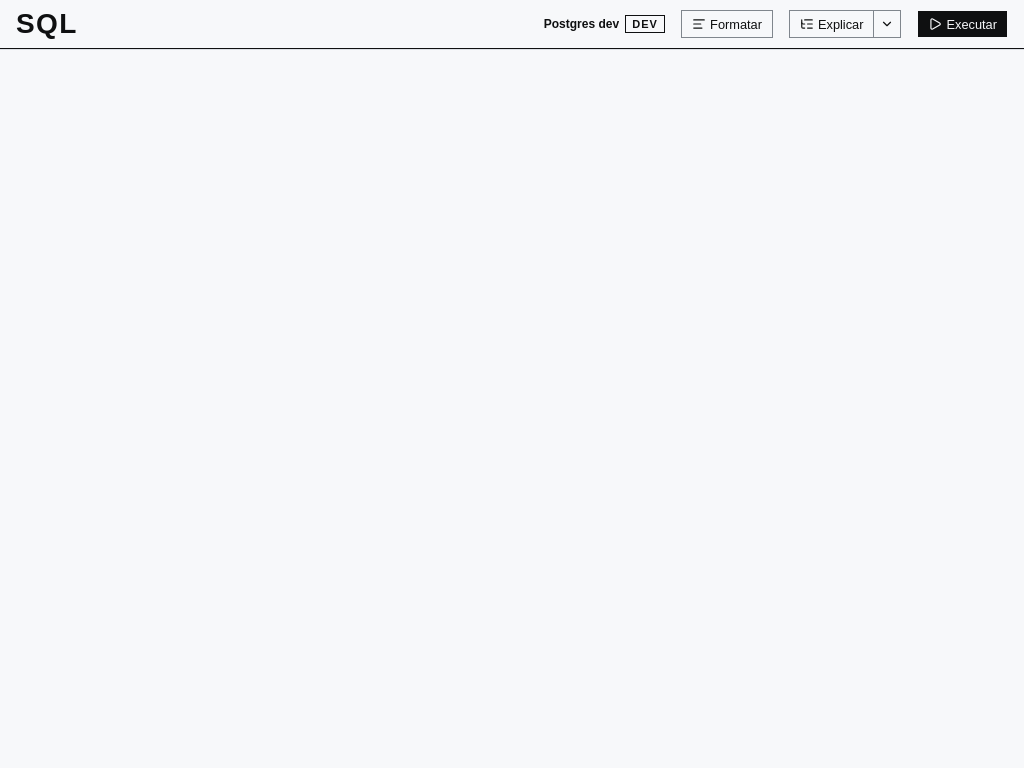
Test: a value the backend refuses stays in the form with the reason
Click the button "Executar": (963, 24) [918,10,1008,38]
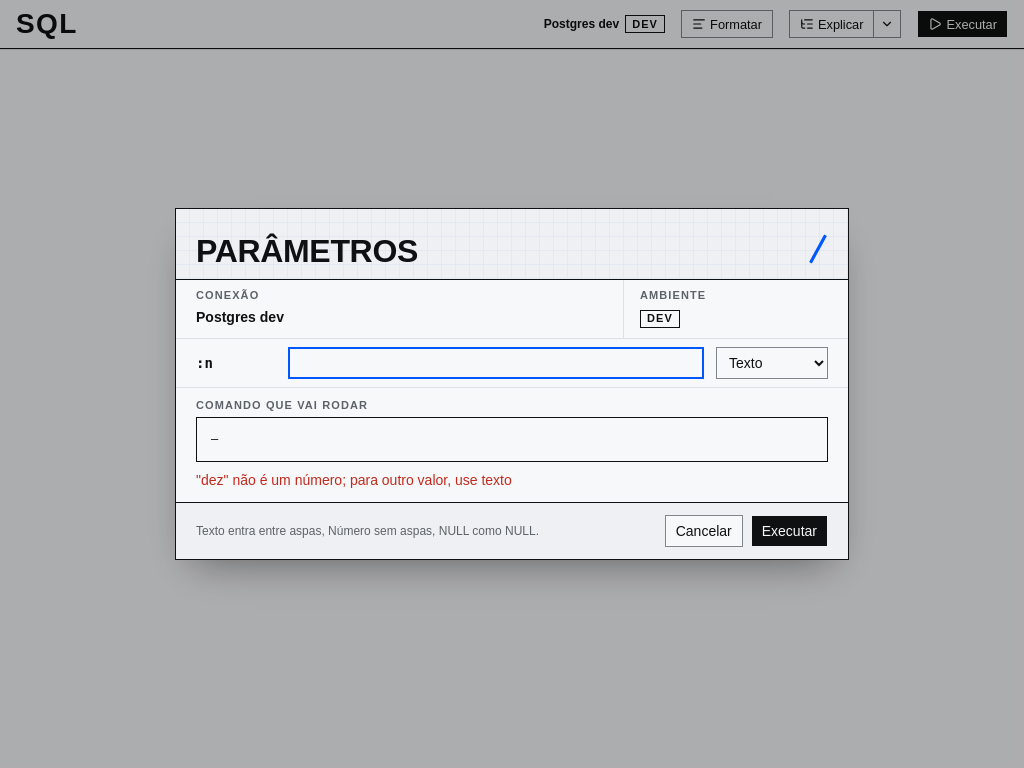
In the field labelled ":n": (496, 362) [288,346,704,378], type "dez"
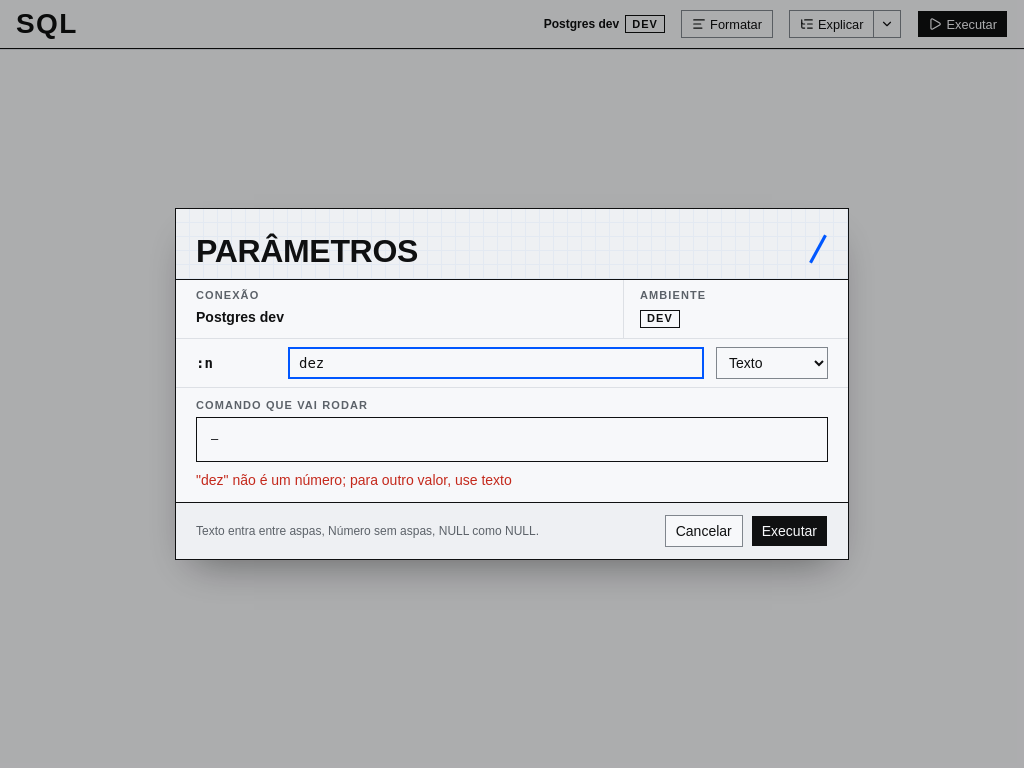
Click the button "Executar": (789, 531) [751,515,828,547]
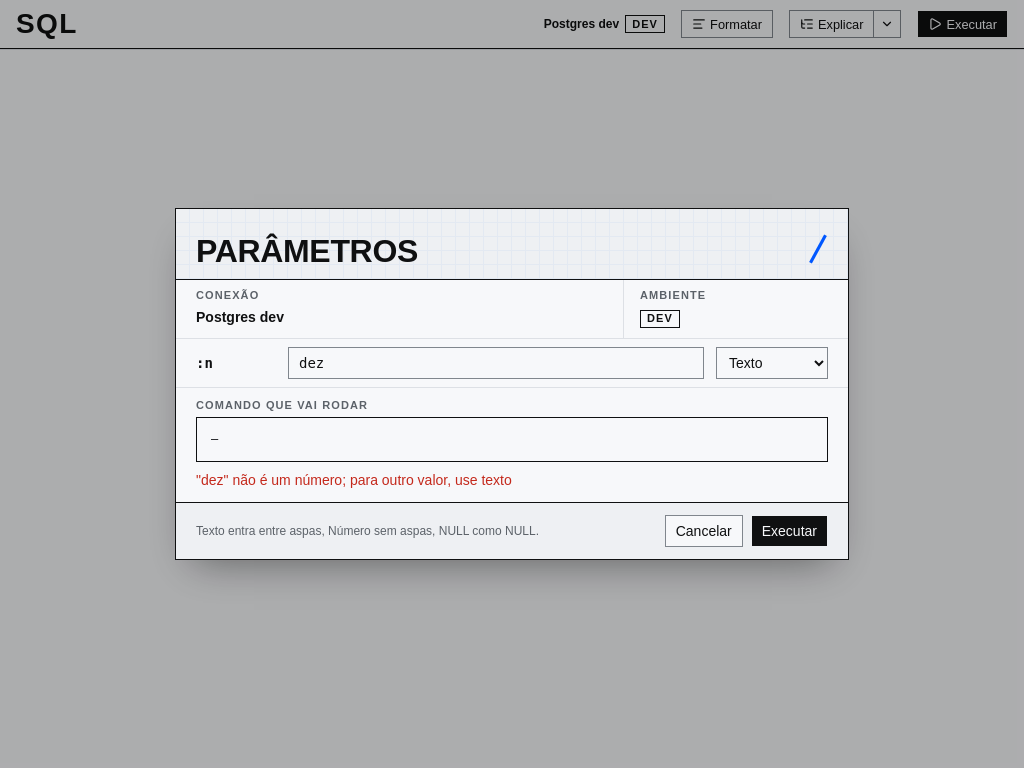
Expected: the message shows "não é um número", [196,472,512,488]
cancelling runs nothing
Click the button "Cancelar": (704, 531) [665,515,743,547]
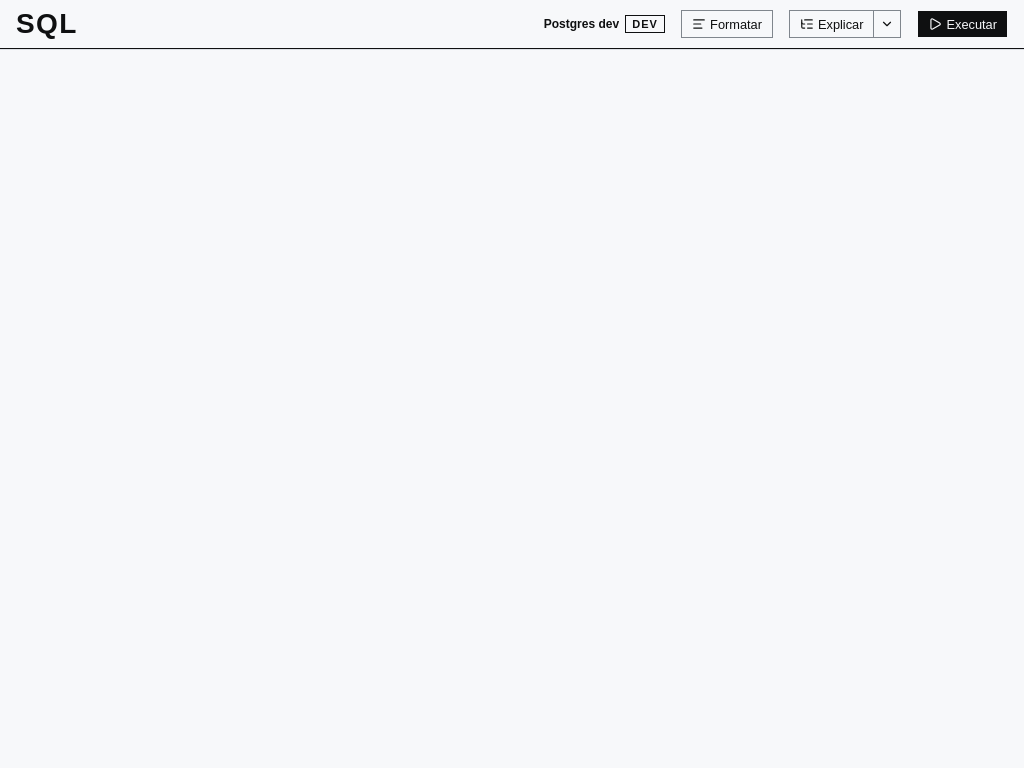
Expected: the dialog is gone
